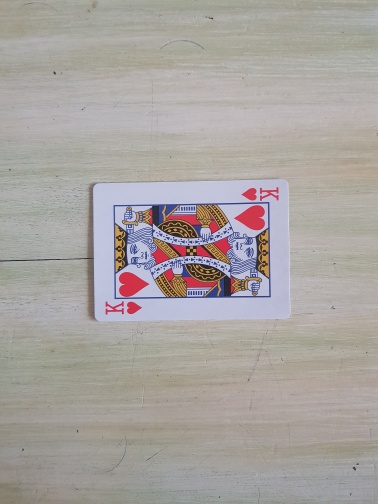king: (91, 178, 293, 323)
